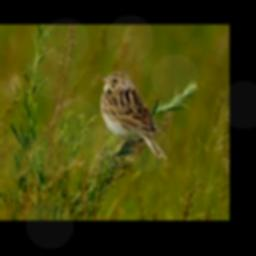Sparrow: (100, 71, 168, 160)
